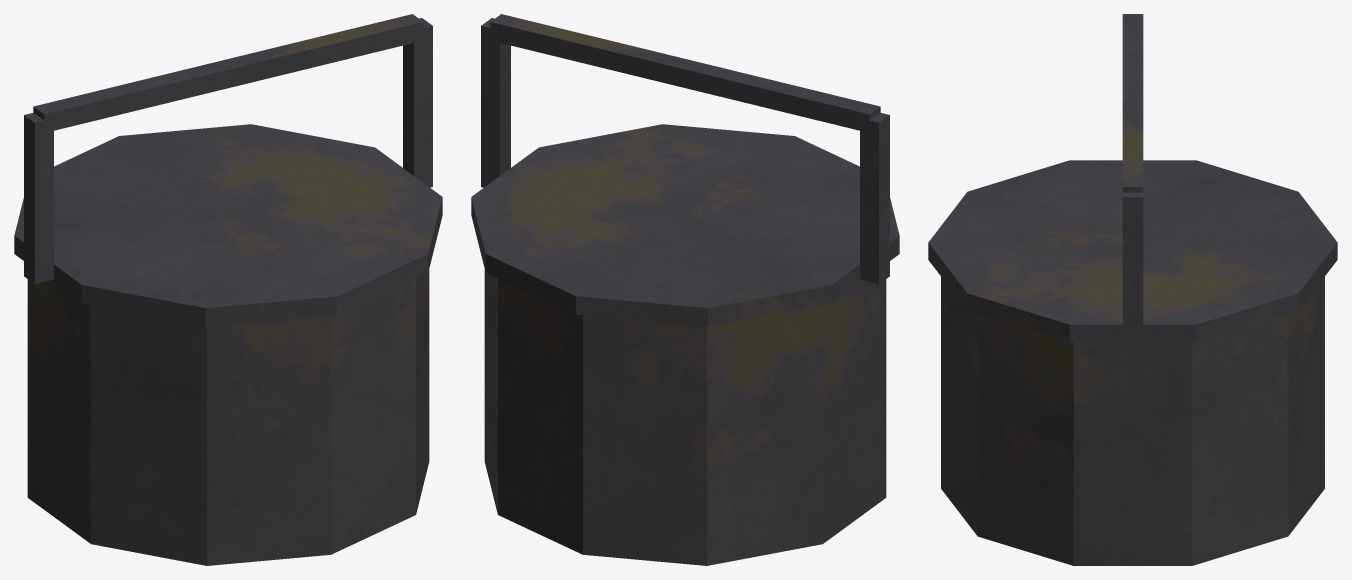
File: pot.glb
3 views of the same model, side by side, from view 1: azimuth 30°, elevation 25°; view 2: azimuth 150°, elevation 25°; view 3: azimuth 270°, elevation 25° (orthographic). The views are drawn at different scales.
Parts seen in each view (by area): view 1: pot; view 2: pot; view 3: pot.
Part boxes in pixels (<box>): pot: <box>14,14,442,565</box>; pot: <box>471,14,899,565</box>; pot: <box>928,14,1337,565</box>.
Size of the model in its own units: 0.336 by 0.335 by 0.32.
Materials: 1 (1 with a texture image).
